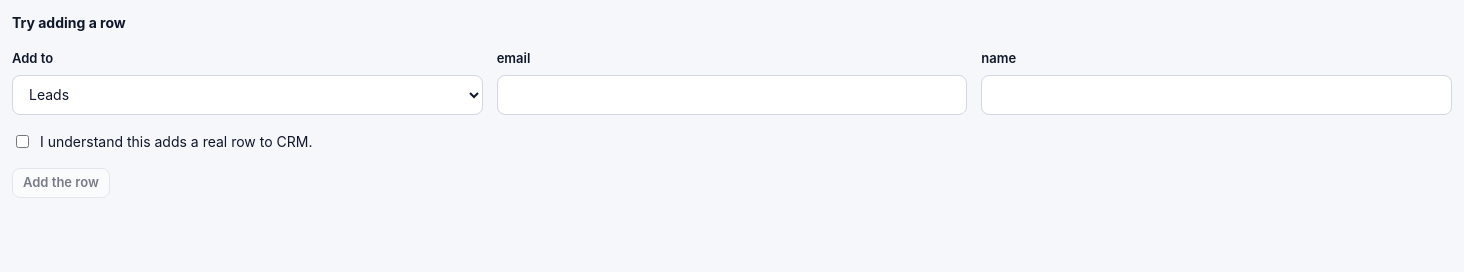
trying a write on a connector › offers only tables that take new rows, and adds nothing until values are typed and the box is ticked
Expected: the button "Add the row" is disabled, [12,168,110,198]
Type "a@b.test" into the field labelled "email".
click(732, 94); type("a@b.test")  # box [497,74,967,114]
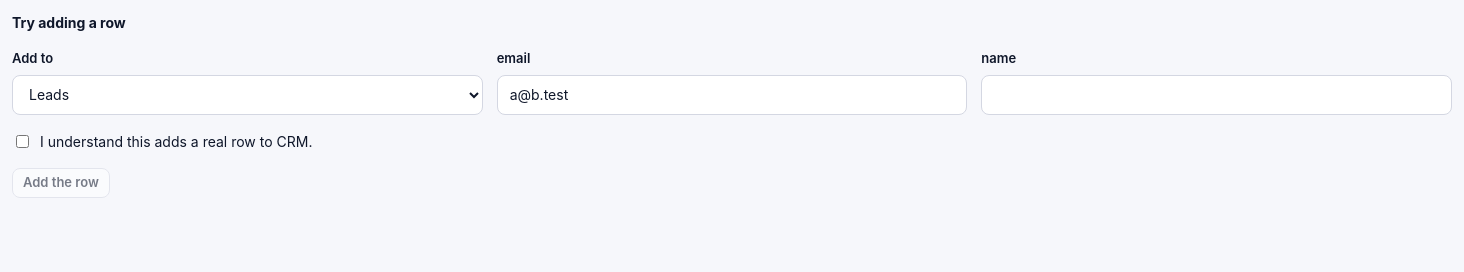
Expected: the button "Add the row" is disabled, [12,168,110,198]
Click the checkbox labelled "I understand this adds a real row to CRM.".
click(22, 141)  # box [16,134,29,148]
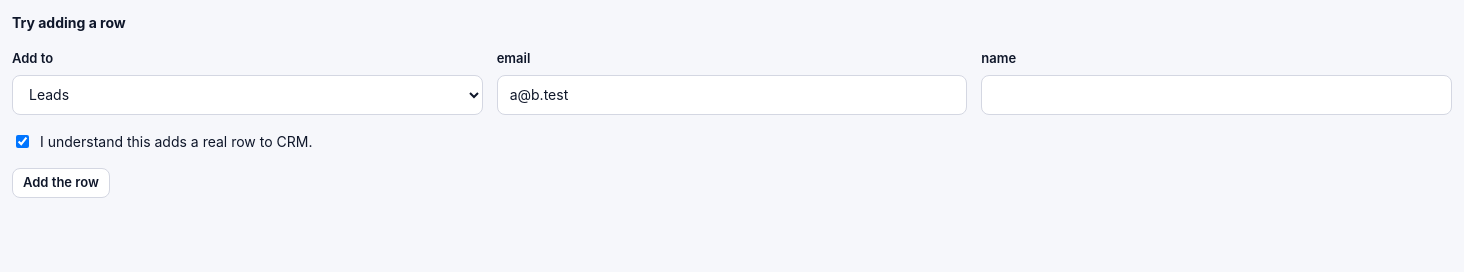
Click the button "Add the row".
click(61, 182)  # box [12,168,110,198]
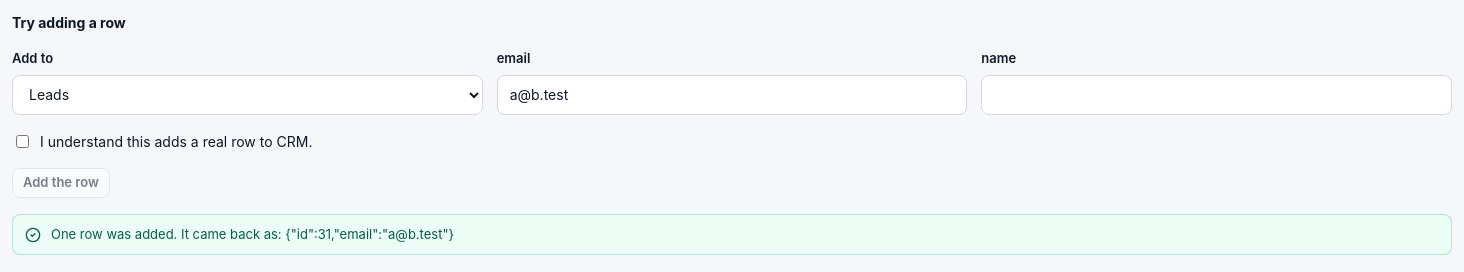
Now the checkbox labelled "I understand this adds a real row to CRM." is not checked, box [16,134,29,148]
Now the text "One row was added. It came back as: {\"id\":31" is shown, box [51,224,454,244]
